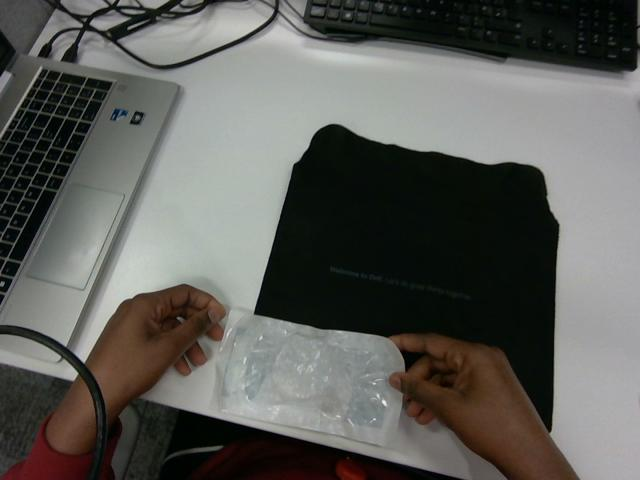gallipot: (218, 314, 403, 444)
